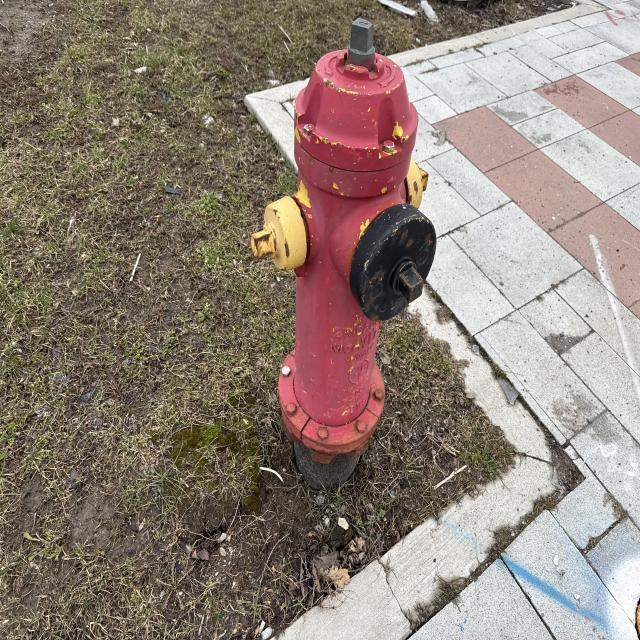Fire hydrant: (248, 16, 438, 468)
